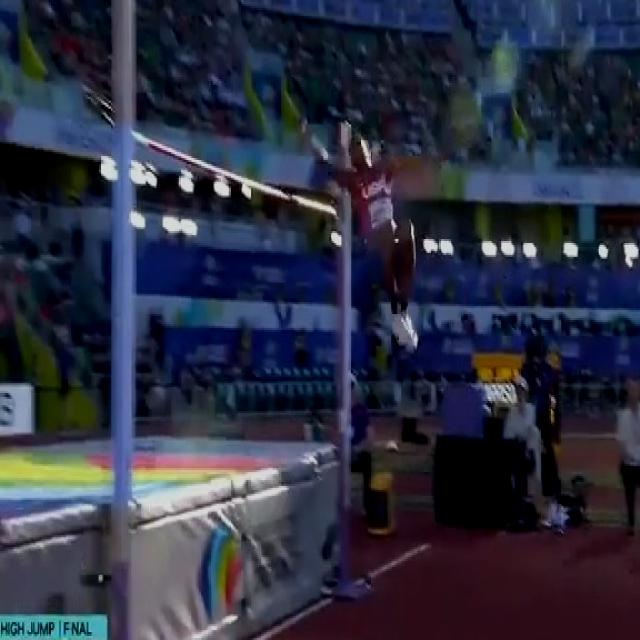land: (298, 115, 420, 353)
